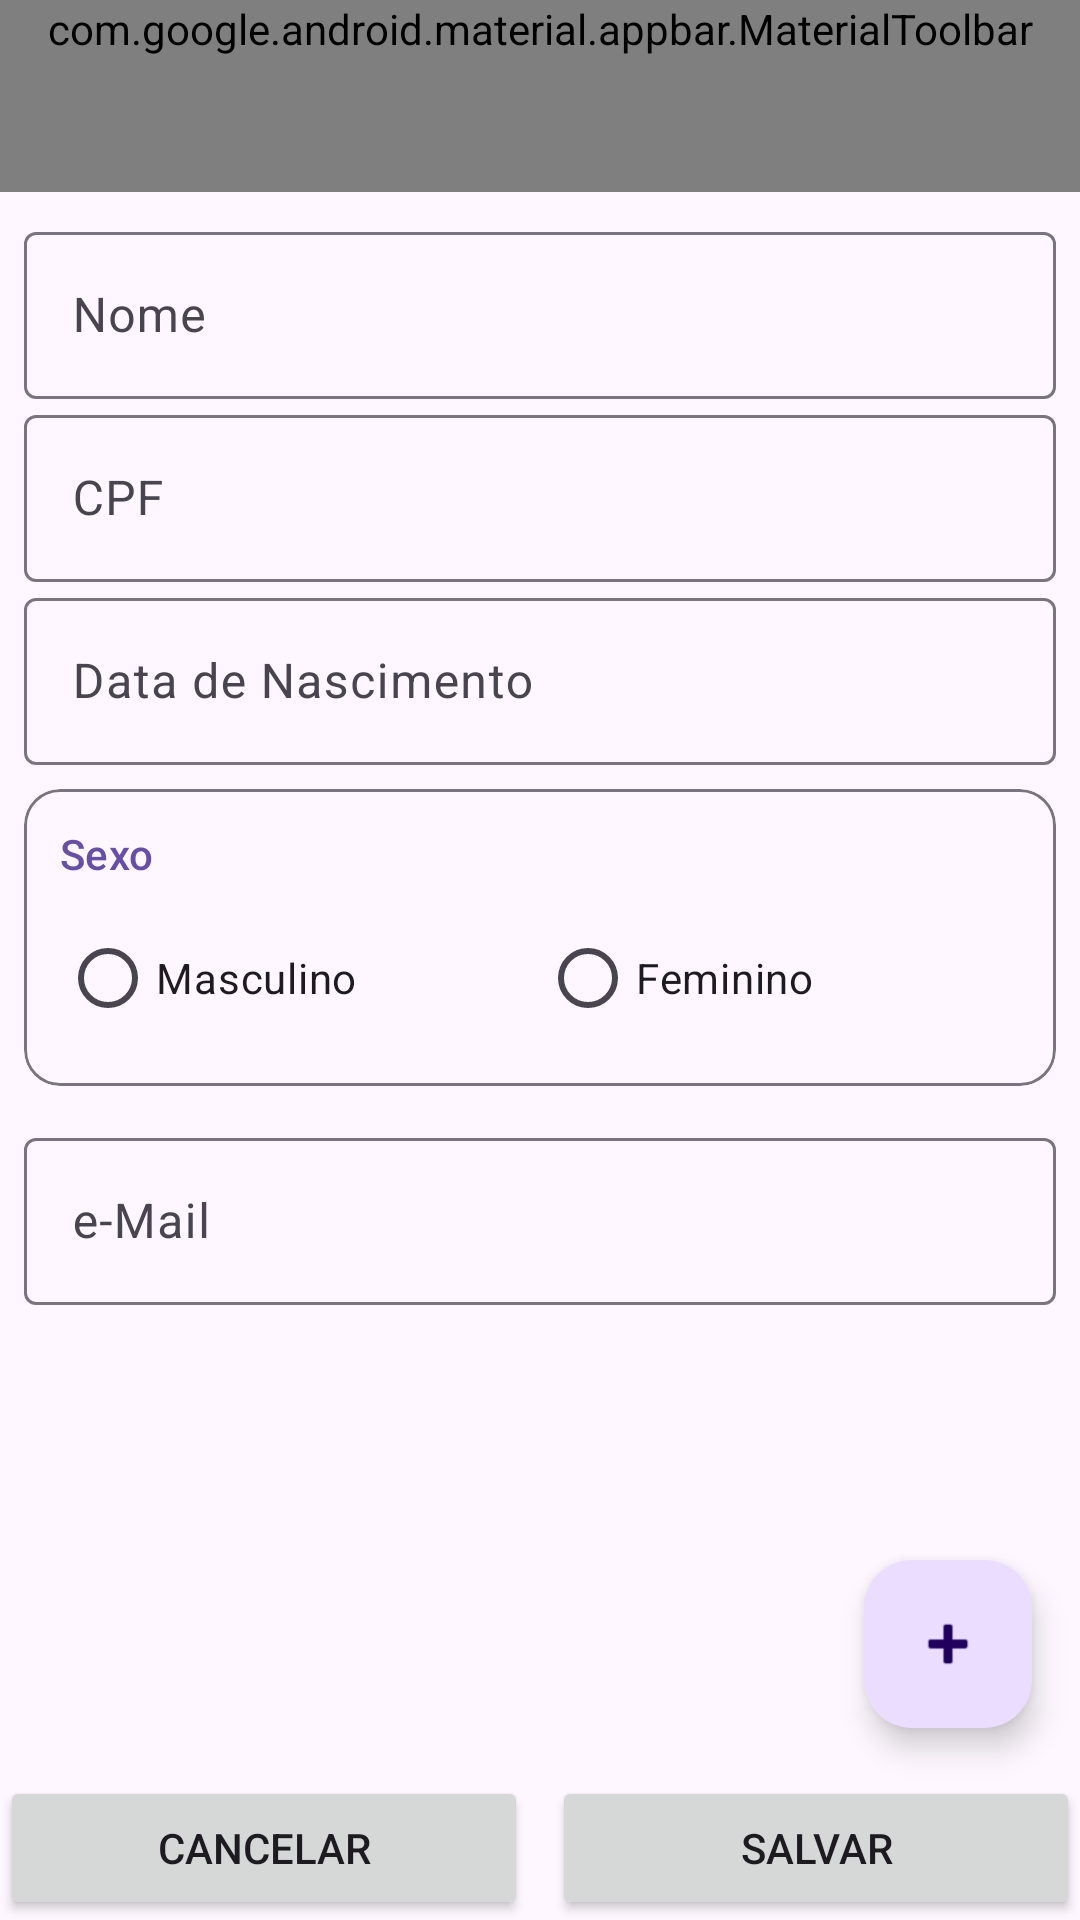

Icons on this 1080px x 1920px Android screen, each with its box as (x1,y1,x2,y2):
Adicionar posto de trabalho: (864,1560,1032,1728)
